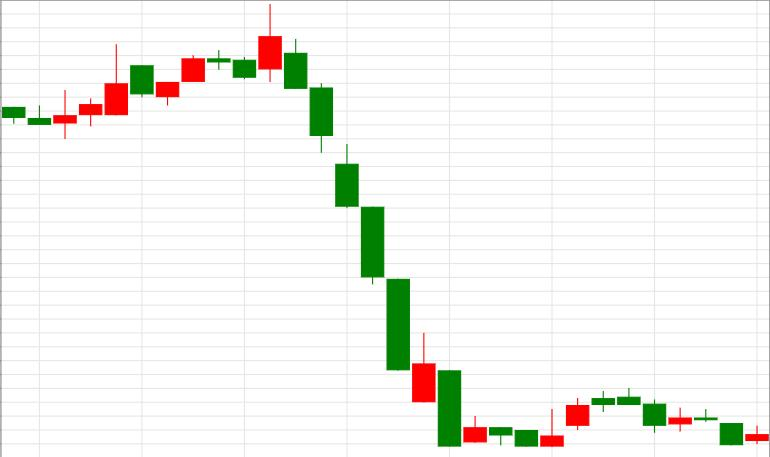three_black_crows_fall: (52, 5, 358, 211)
